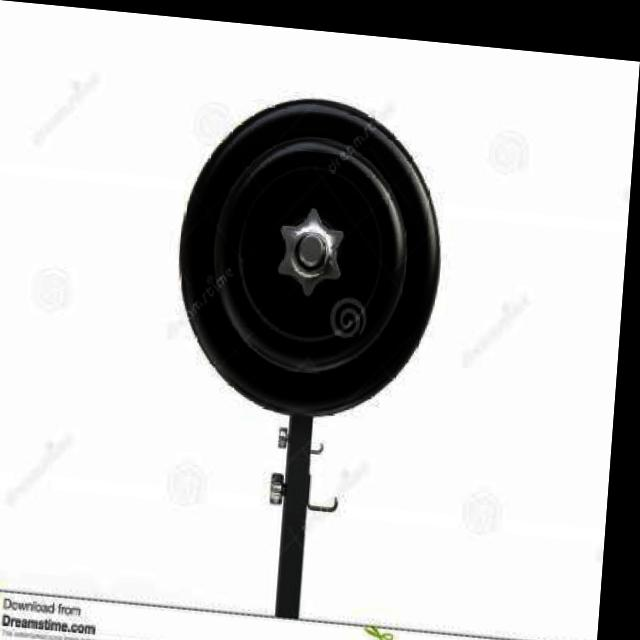barbell: (172, 80, 462, 430)
